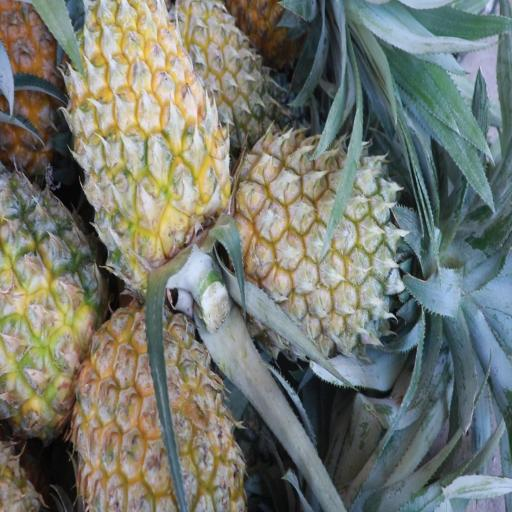------------------------------: (0, 168, 127, 450)
Pineapple - v8 v1: (59, 0, 233, 310), (243, 122, 426, 362), (68, 303, 250, 511)
